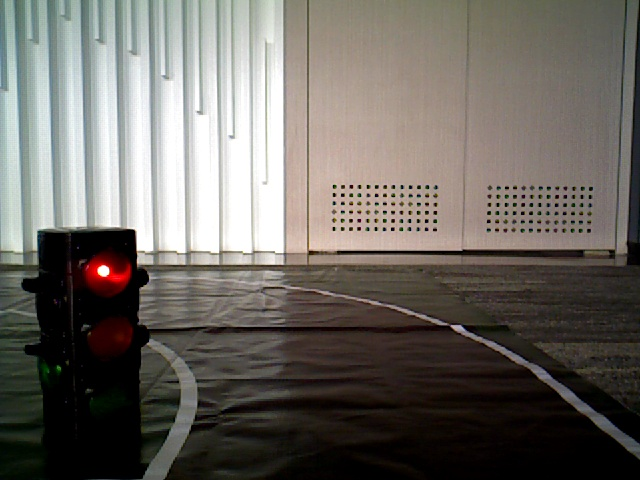red: (59, 242, 141, 444)
